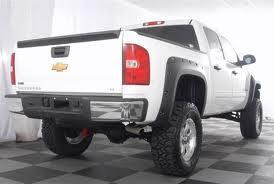Car: (0, 14, 274, 181)
